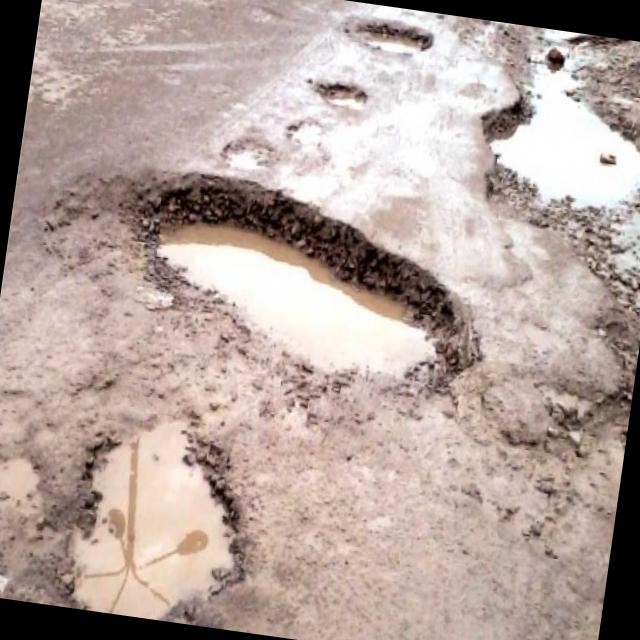Potholes: (97, 139, 490, 431), (35, 387, 293, 635), (470, 21, 640, 230), (336, 0, 456, 78), (306, 60, 382, 132)
